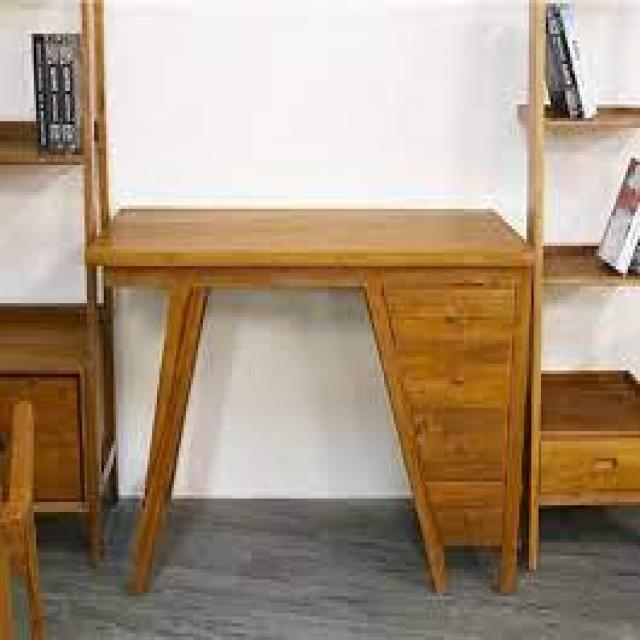table: (92, 147, 529, 601)
